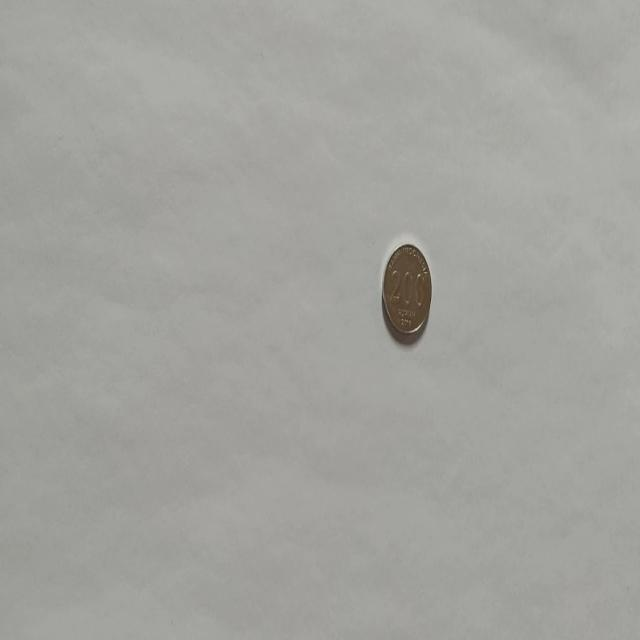dua ratus rupiah: (380, 240, 432, 340)
